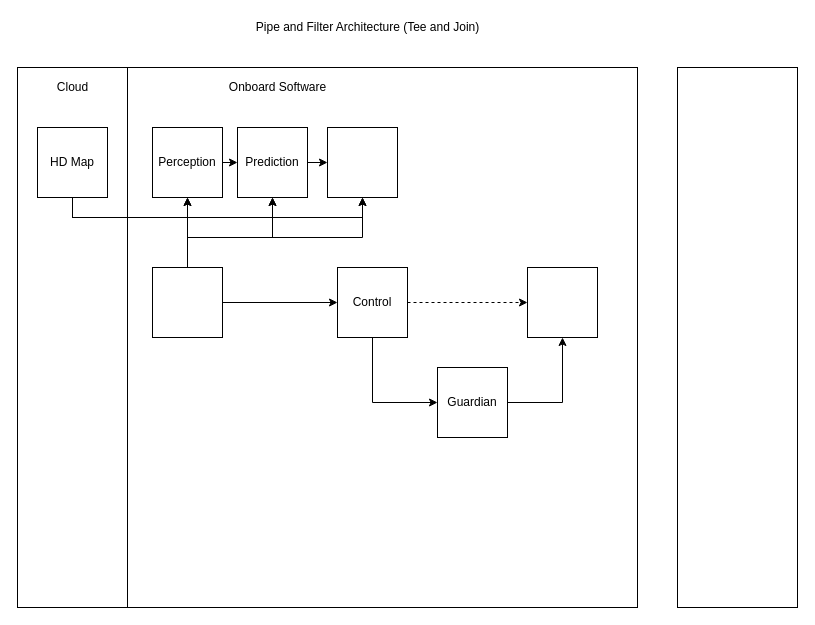
Some shapes in this 815 by 625 pixel diagram are drawn without their labels. Here are the shapes that lost their labels. From the top down, the centre of each, then its label:
the point at 362,162: Planning
the point at 187,302: Localization
the point at 562,302: CANBus
